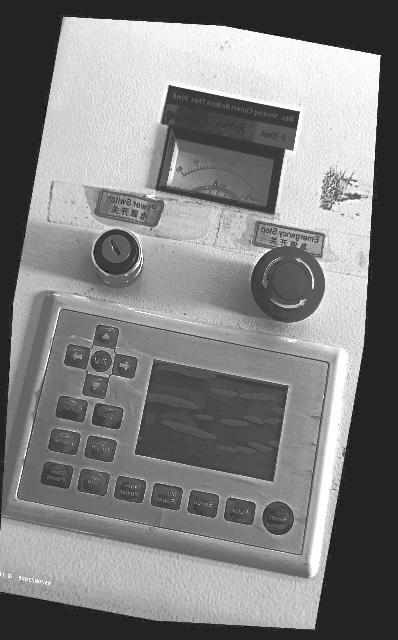Amp_Meter: (156, 85, 299, 213)
Display: (136, 360, 287, 481)
Down_button: (83, 374, 108, 398)
Emergency_Stop: (251, 247, 325, 322)
Enter_button: (56, 396, 87, 422)
Esc_button: (92, 404, 123, 429)
File_button: (78, 469, 109, 496)
Frame_button: (48, 429, 80, 455)
Left_button: (112, 354, 137, 378)
Max-Power_button: (114, 477, 146, 503)
Min-Power_button: (151, 484, 182, 510)
Origin_button: (85, 436, 116, 462)
Power_switch: (91, 229, 143, 286)
Pulse_button: (224, 498, 255, 525)
Reset_button: (263, 502, 294, 535)
Right_button: (64, 345, 90, 368)
Speed_button: (188, 491, 219, 518)
Start-Pause_button: (41, 462, 73, 488)
Up_button: (94, 325, 118, 349)
Z_U_button: (91, 351, 111, 372)
